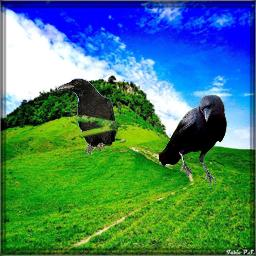Crow: (159, 95, 227, 188), (57, 78, 117, 155)
